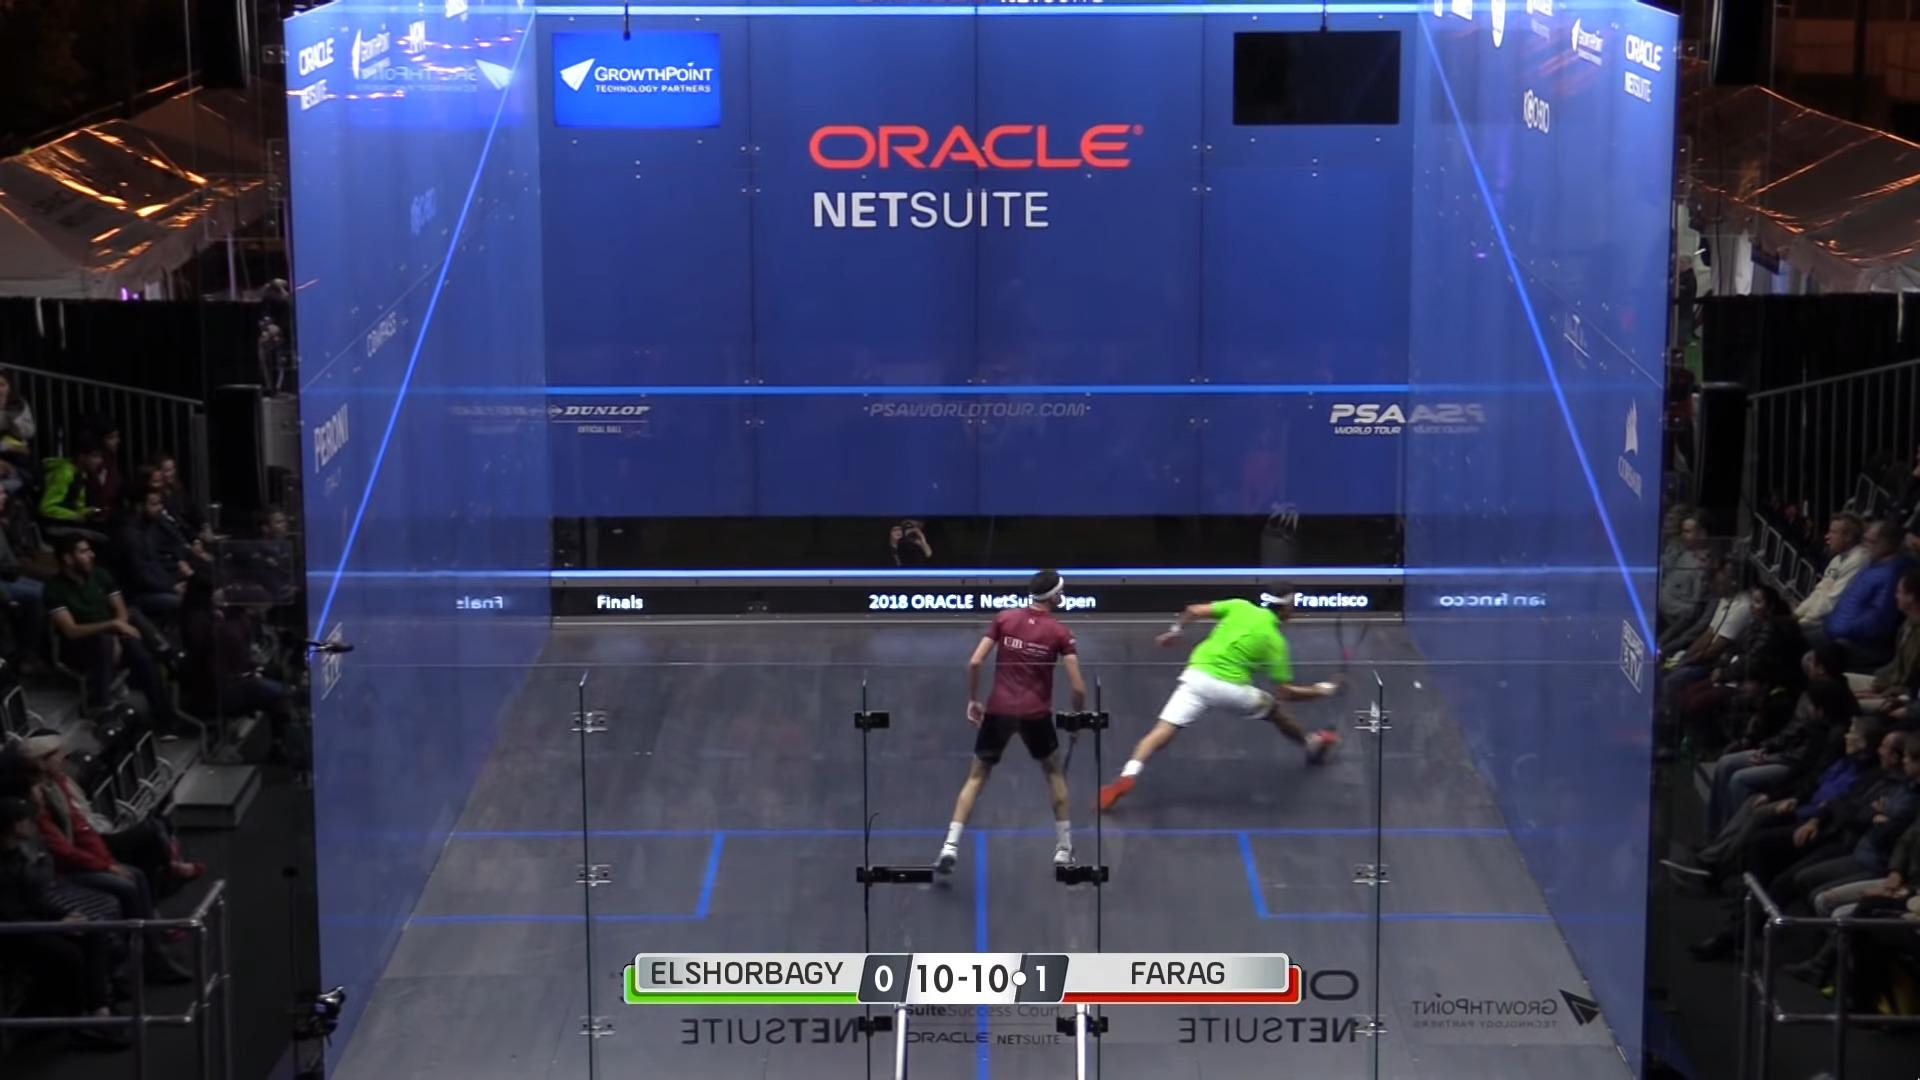Squash-Ball: (1403, 673, 1431, 702)
